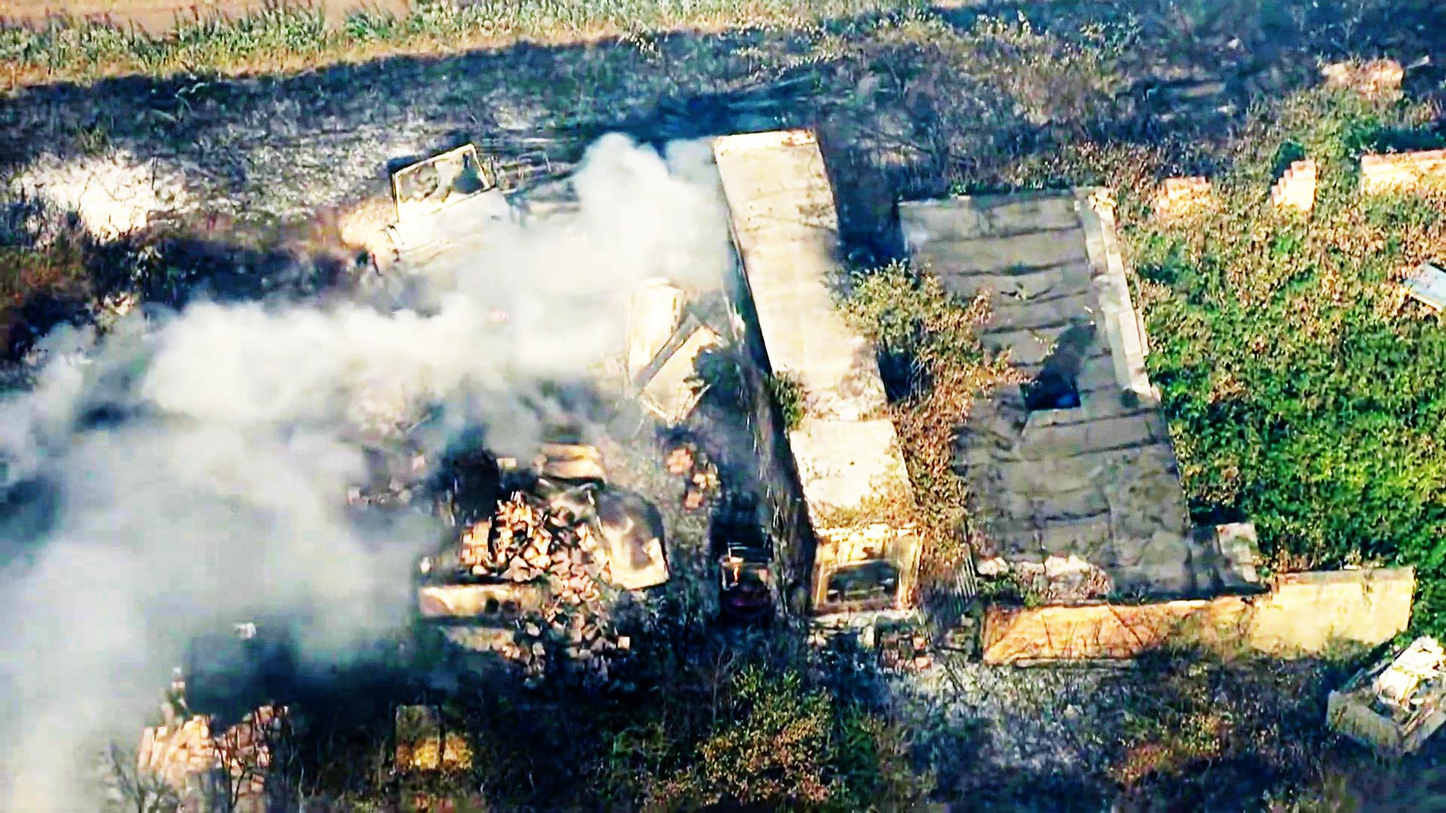smoke: (124, 333, 458, 607), (13, 371, 279, 616), (397, 232, 627, 395)
